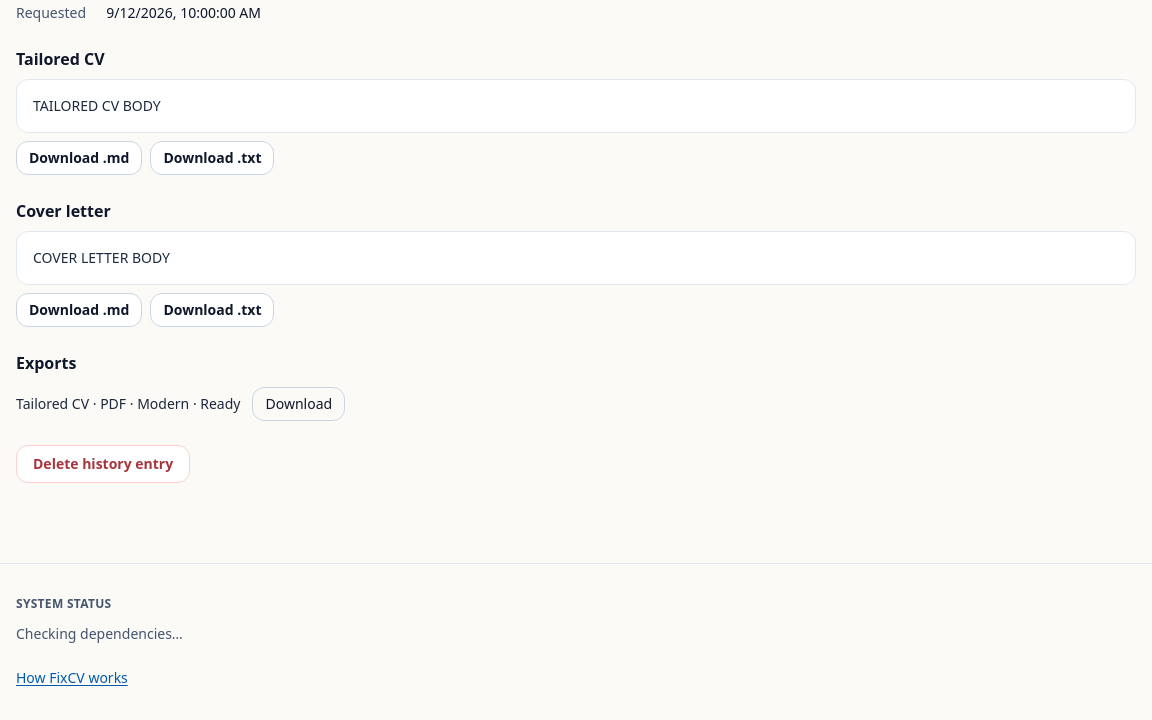
Test case: the dialogs — AC-29 › Delete history entry names the posting and date, its exports and its card on the board
(page scrolled)
Click the button "Delete history entry" at (103, 464), box [16, 445, 190, 483]
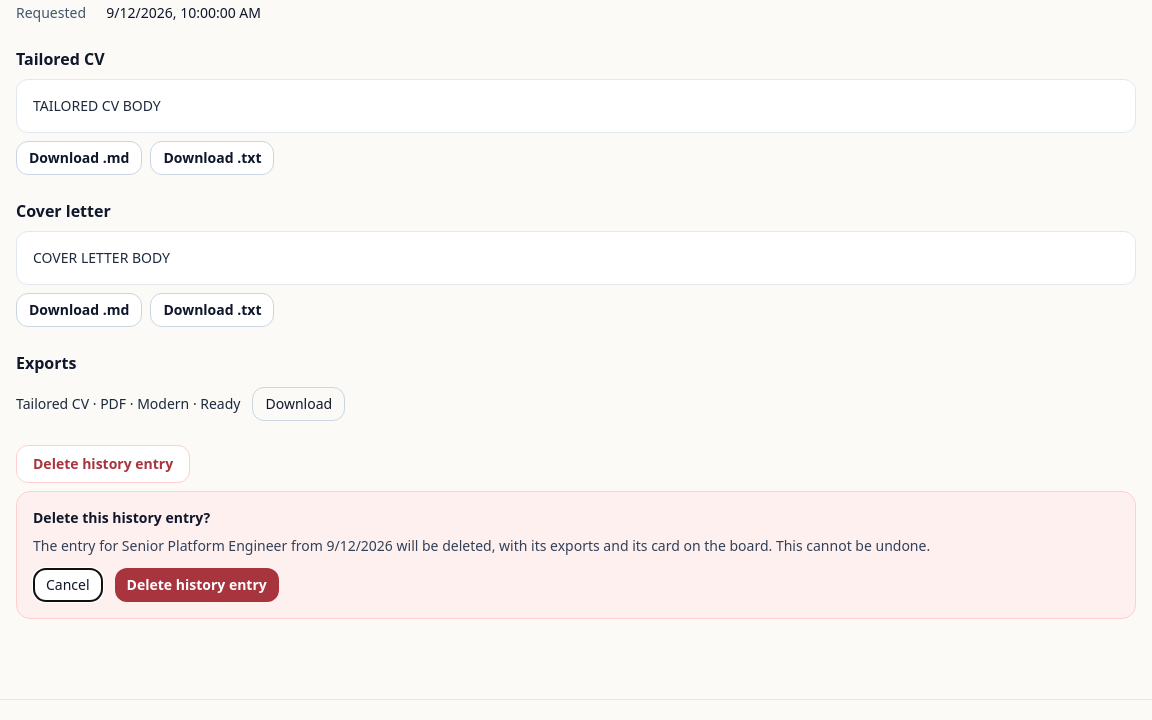
Expected: the heading "Delete this history entry?" is shown, [33, 508, 210, 527]
